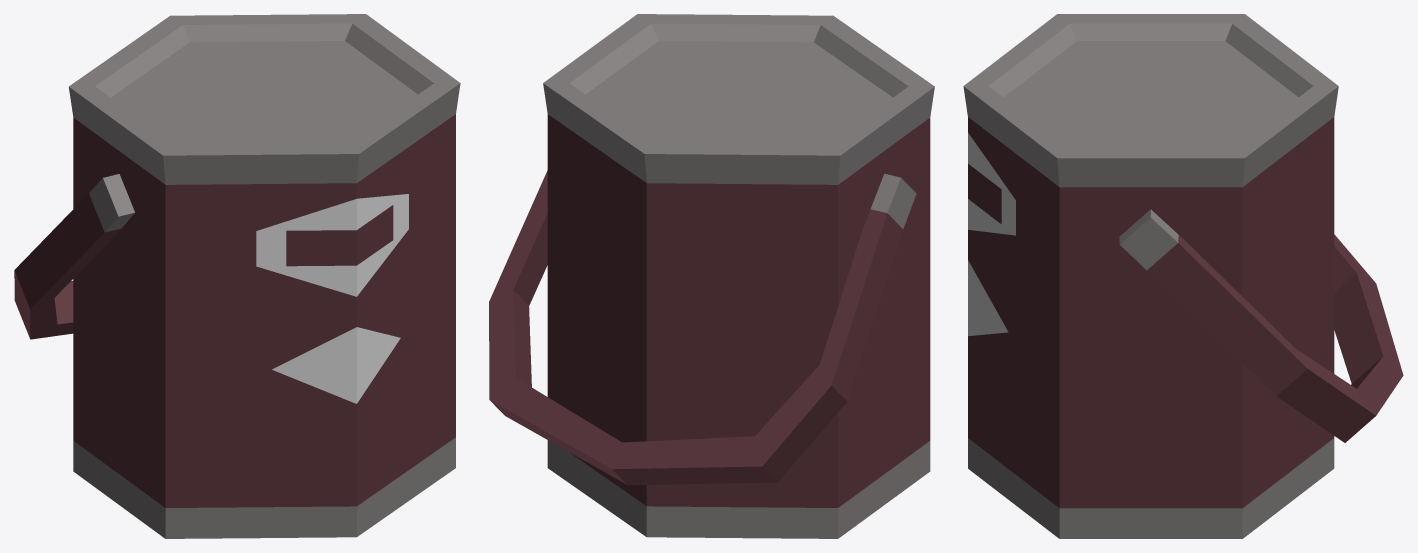
The model's file is can-paint.fbx.
3 views of the same model, side by side, from view 1: azimuth 30°, elevation 25°; view 2: azimuth 150°, elevation 25°; view 3: azimuth 270°, elevation 25° (orthographic).
Visible parts, largest first — view 1: can-paint; view 2: can-paint; view 3: can-paint.
Boxes of the visible parts, x1,y1,x2,y2 form: can-paint: [14, 14, 460, 538]; can-paint: [489, 14, 934, 538]; can-paint: [963, 14, 1403, 538].
Size of the model in its own units: 0.1769 by 0.19 by 0.1981.
